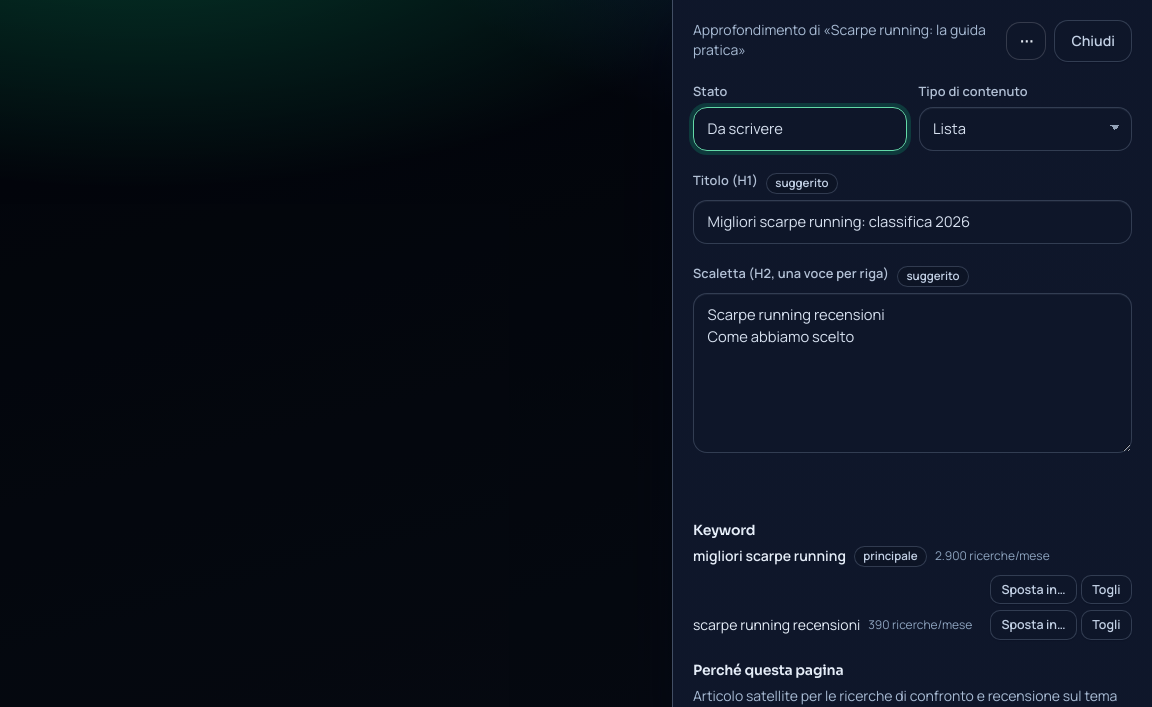
Scenario: PagePanel › dopo 800 ms senza digitare parte una sola PATCH con version 4 e il nuovo H1, poi Salvato senza «suggerito»
This screenshot has width=1152, height=707.
Replace the text in the field labelled "Titolo (H1)" with "Le migliori scarpe da running": (912, 222) x1=693 y1=200 x2=1132 y2=244
Wait 800 ms
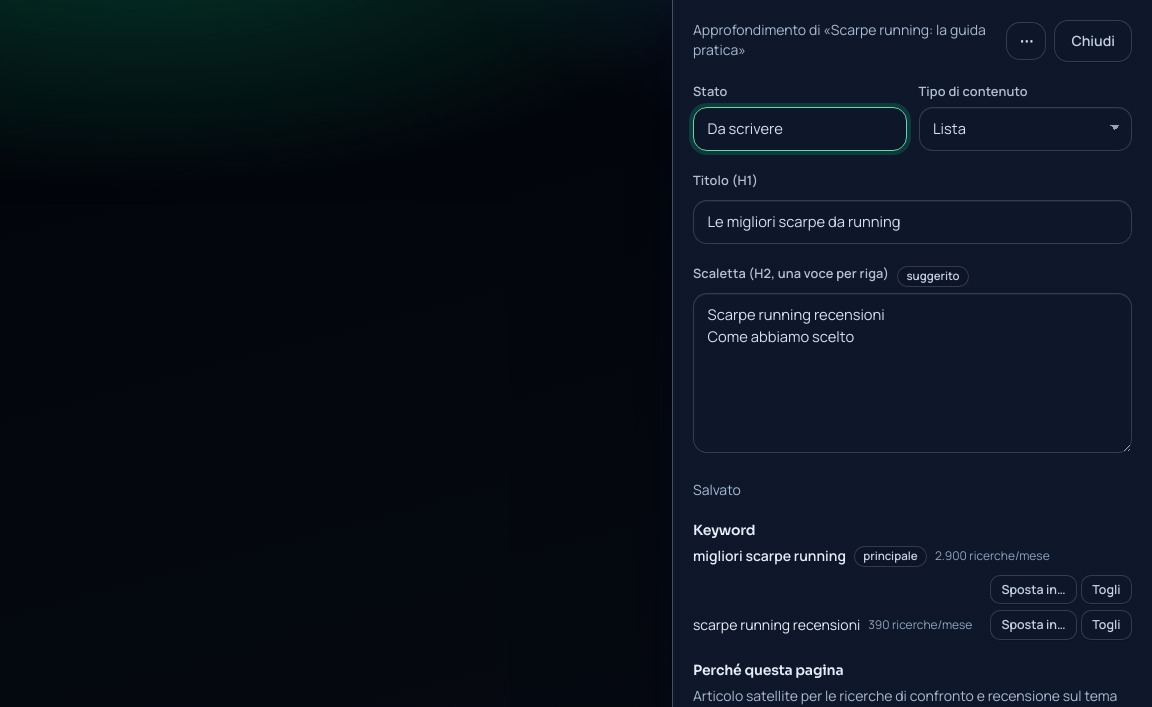
Check: the message reads "Salvato", box x1=693 y1=480 x2=741 y2=499
